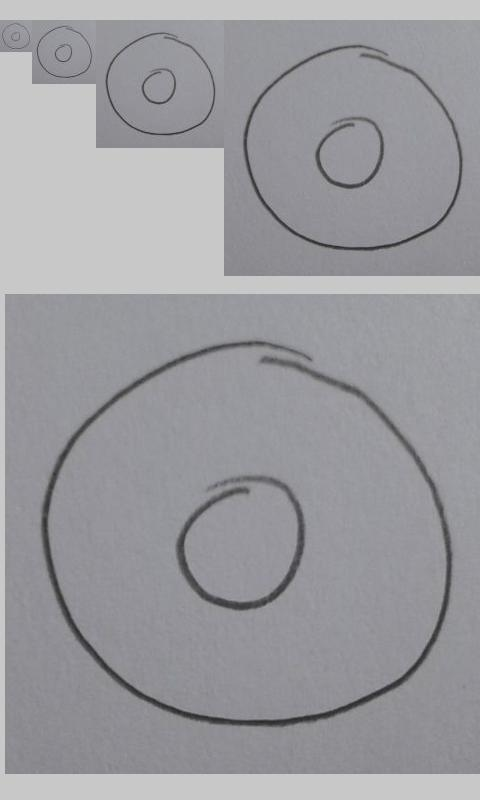radio_button: (40, 337, 455, 731), (240, 41, 466, 253), (104, 31, 218, 137), (36, 25, 93, 79), (1, 22, 31, 50)
